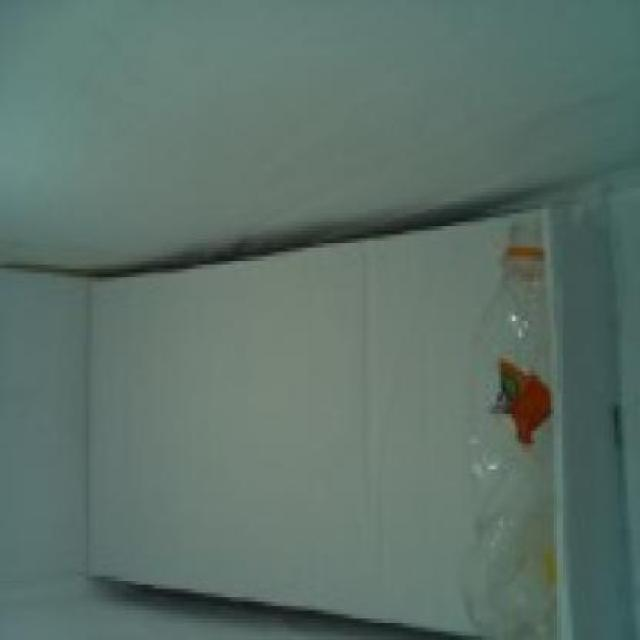Pet_Bottle: (476, 213, 566, 624)
